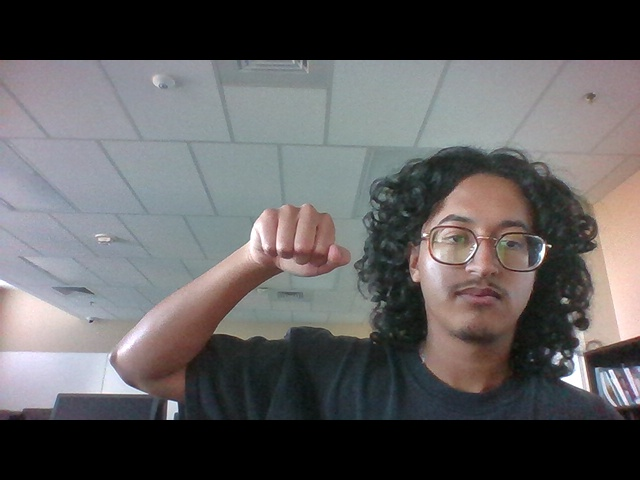yes: (234, 192, 360, 293)
